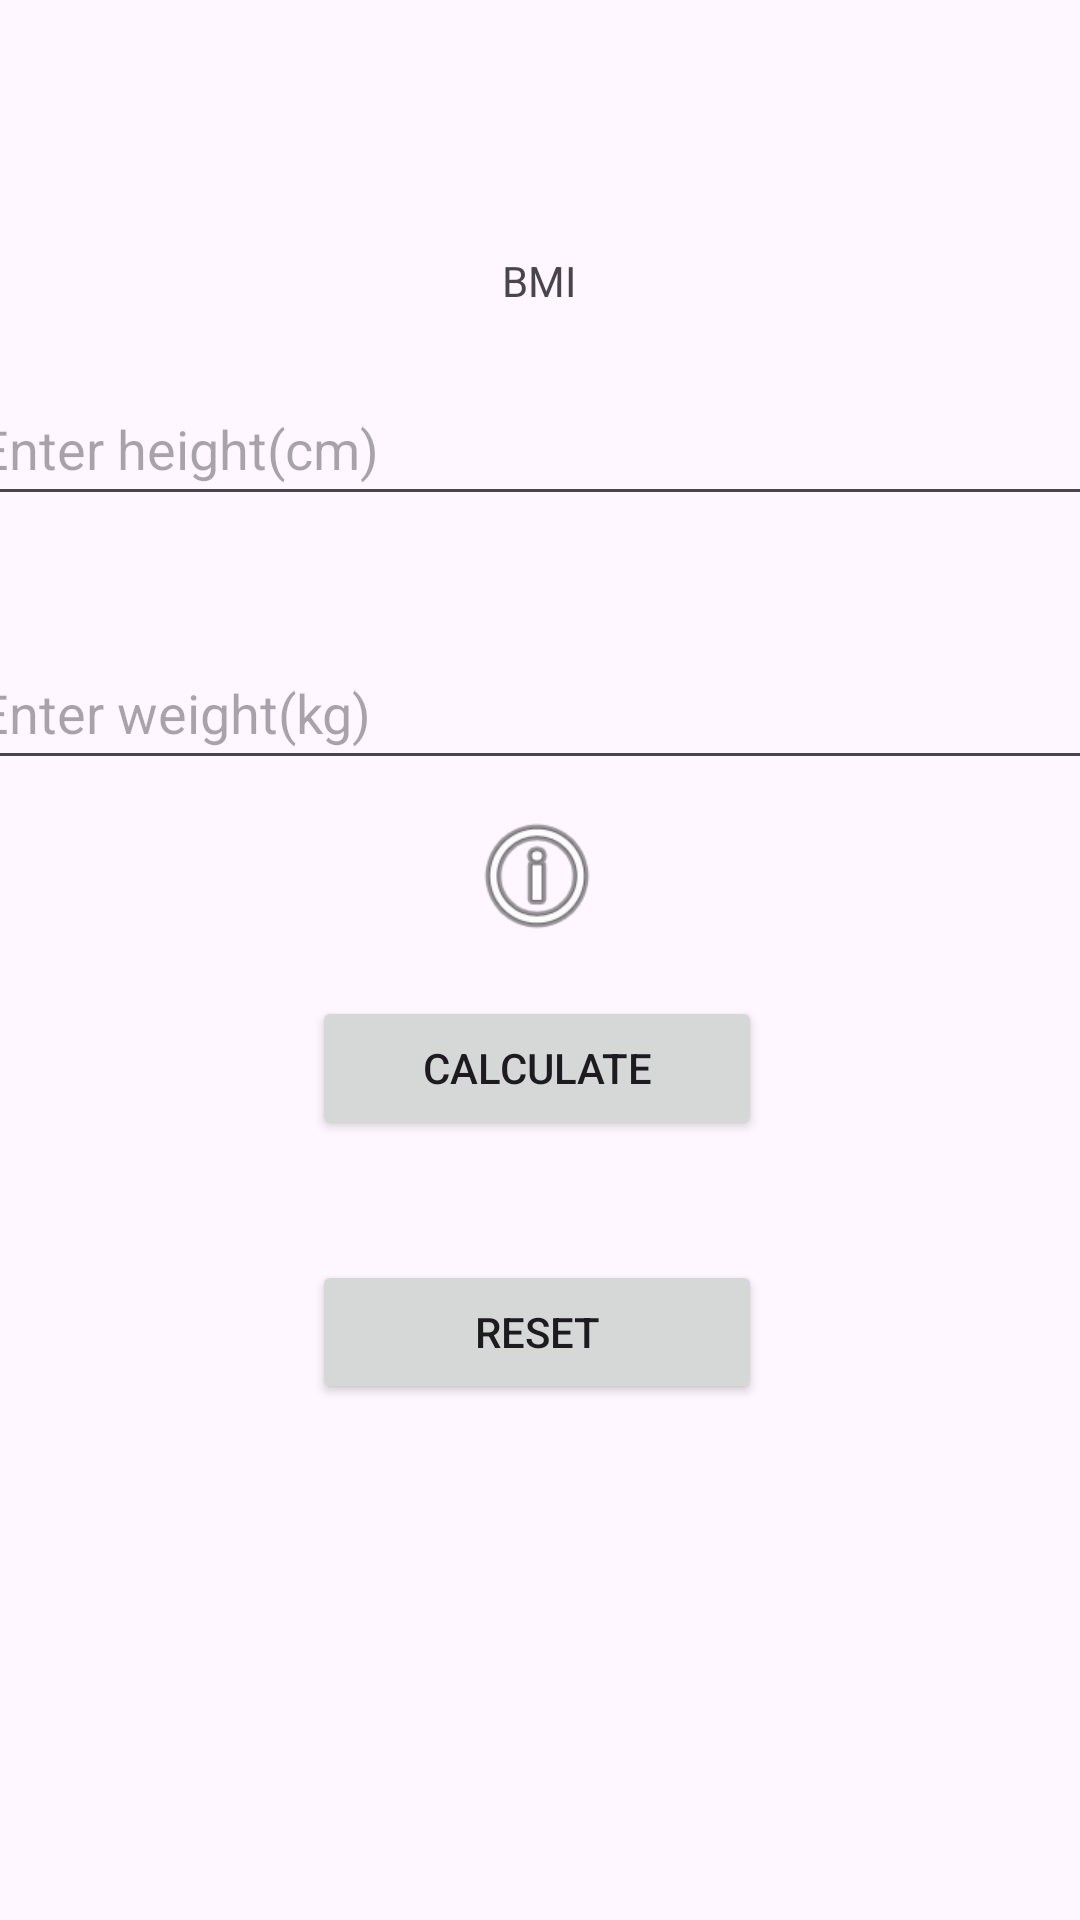

Icons on this 1080 × 1920 Android screen, each with the point to tap as [x,y]:
info details: [537,876]
